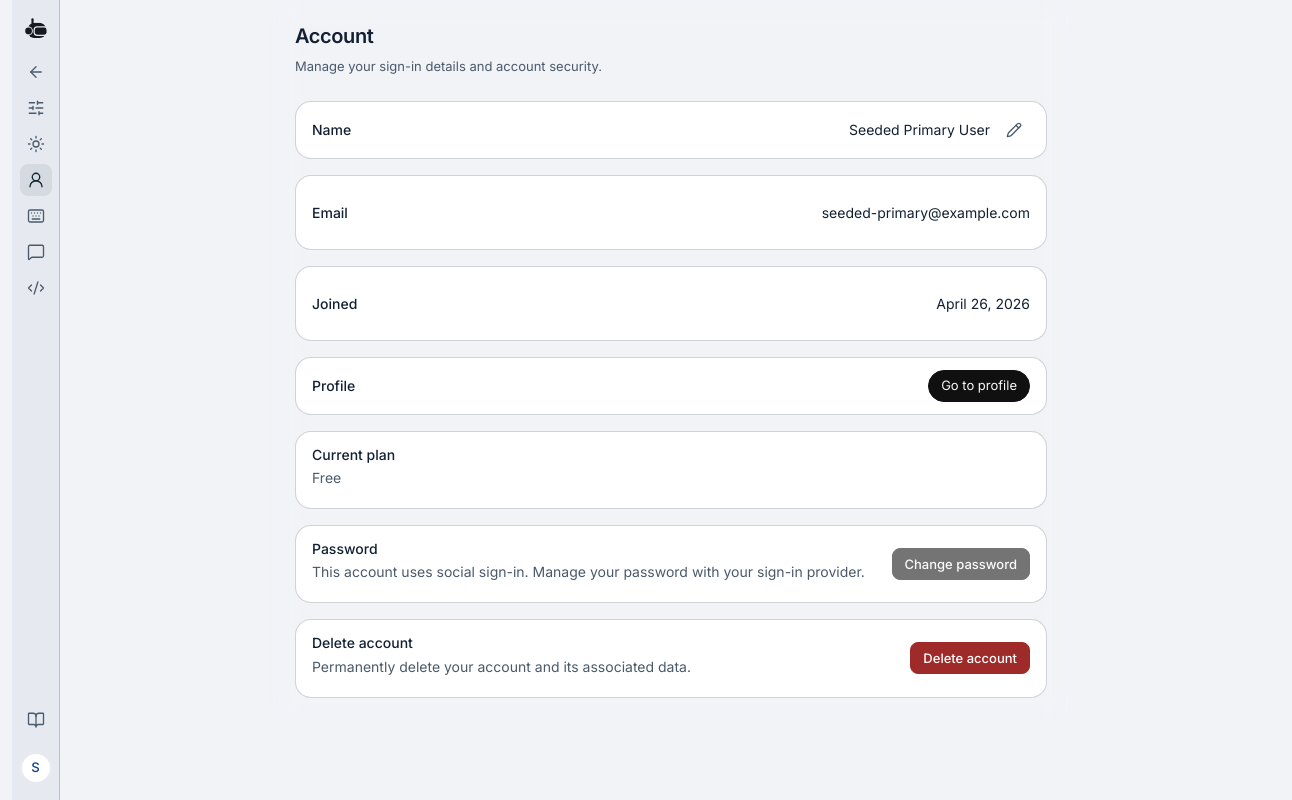
Test: SettingsPage developers scenario › uses an ellipsis pagination window for many API key pages
Note: user opens the developers section.
What coordinates should you click on to do the following:
click the link named "Developers"
I would click on:
 (36, 288)
Its box is [26, 279, 44, 297].
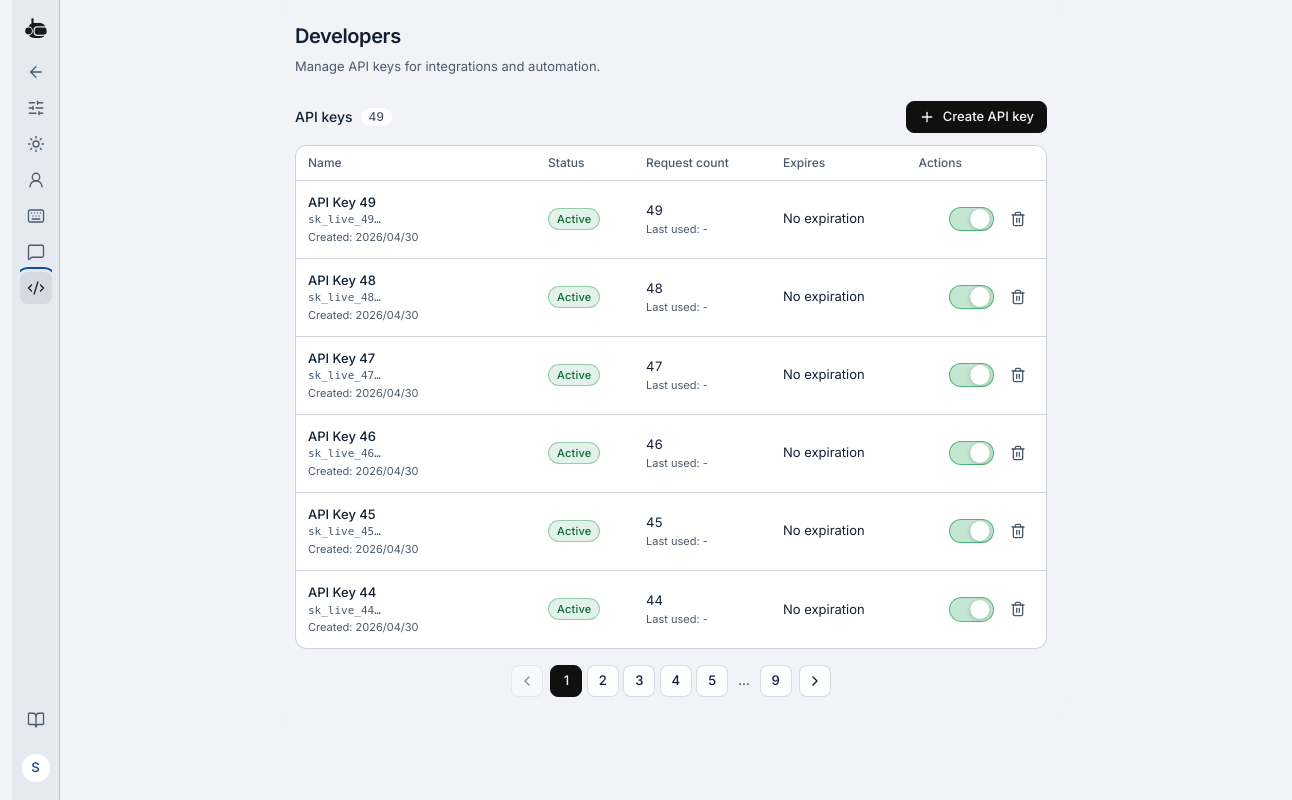
Expected: the button "1" is shown, [550, 665, 582, 697]
Expected: the button "5" is shown, [696, 665, 728, 697]
Expected: the button "9" is shown, [760, 665, 792, 697]
